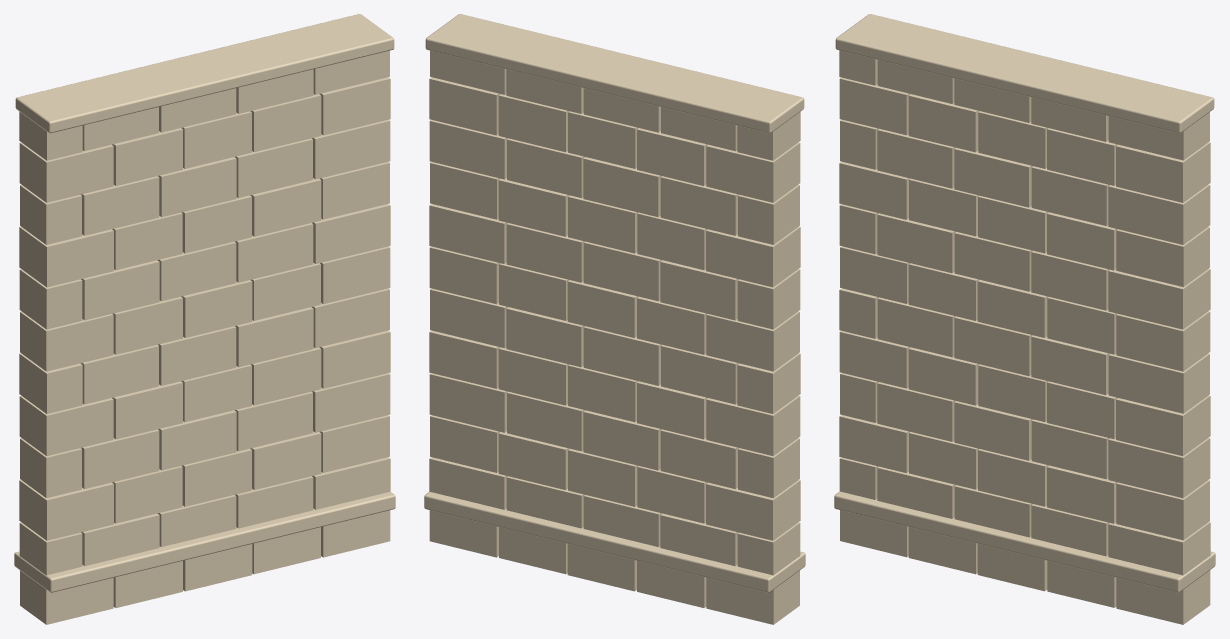
Rendered from courtyard-wall-bay-4b6bfa3c.glb.
The picture shows the model from 3 angles, left to right: view 1: azimuth 30°, elevation 25°; view 2: azimuth 150°, elevation 25°; view 3: azimuth 330°, elevation 25°; orthographic projection.
Visible parts, largest first — view 1: courtyard-wall-bay; view 2: courtyard-wall-bay; view 3: courtyard-wall-bay.
Boxes of the visible parts, left/top/right/bottom form: courtyard-wall-bay: left=14, top=14, right=395, bottom=624; courtyard-wall-bay: left=424, top=14, right=805, bottom=624; courtyard-wall-bay: left=834, top=14, right=1215, bottom=624.
Bounding box in the file's own units: 3 × 4.19 × 0.5599.
